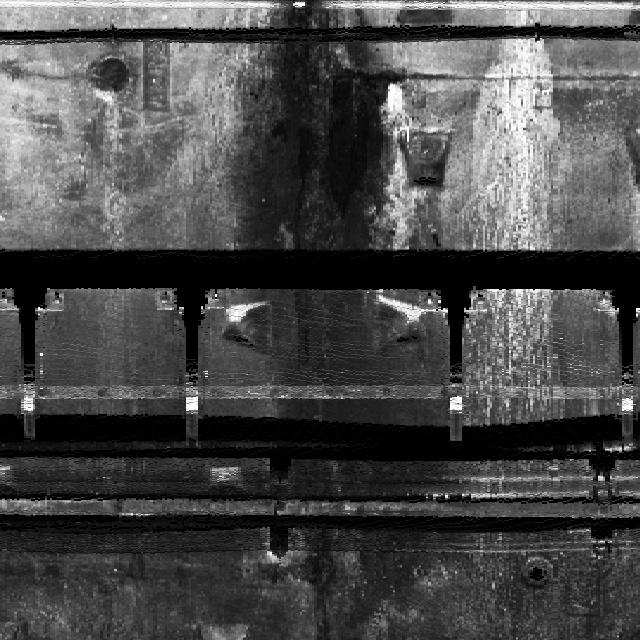leakage: (249, 286, 468, 639), (211, 1, 407, 248)
